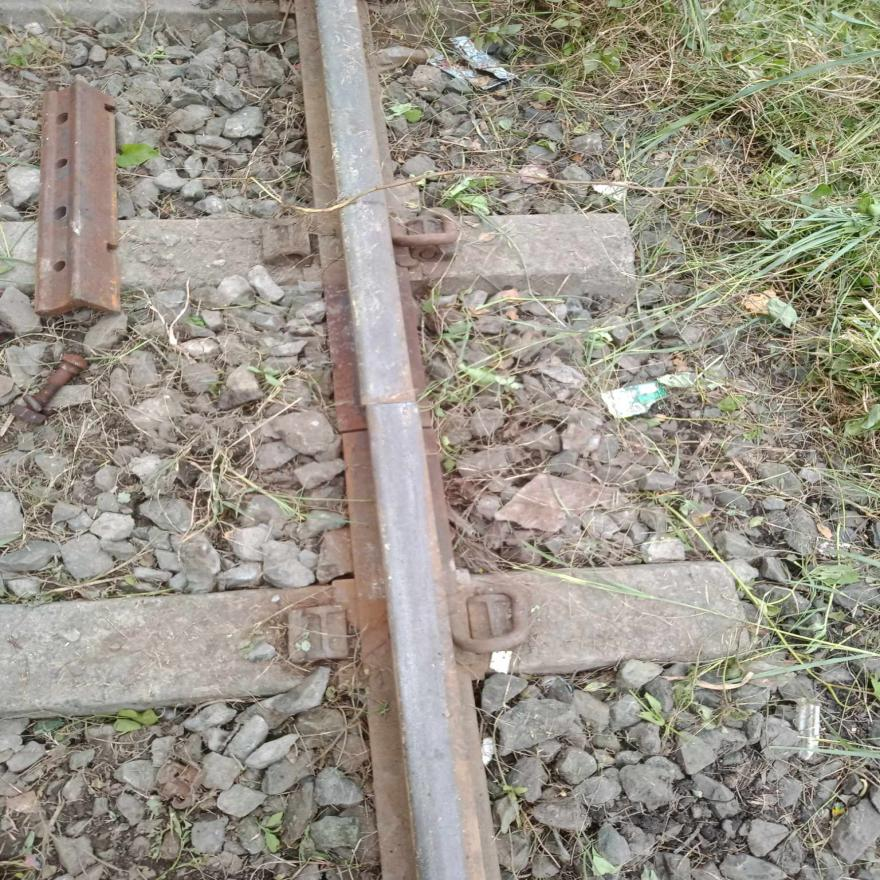railway-gap: (321, 354, 451, 455)
